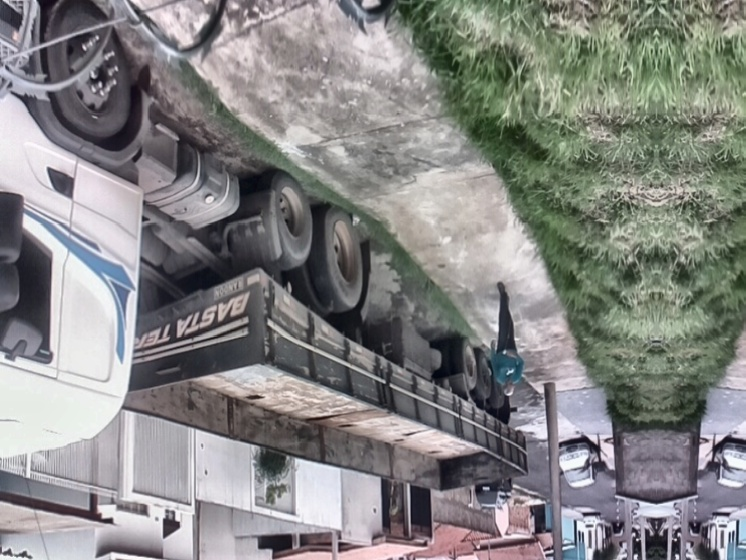person: (487, 280, 527, 399)
